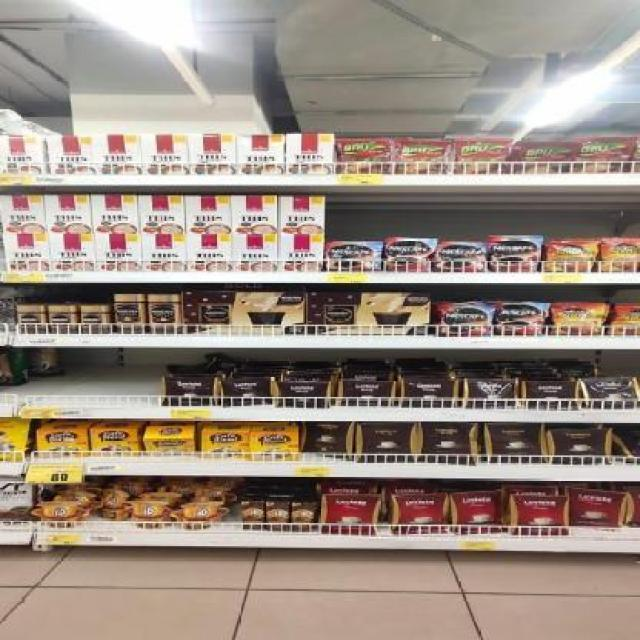Coffee: (434, 242, 488, 273), (386, 238, 435, 272), (490, 238, 538, 272), (325, 242, 381, 271), (439, 306, 493, 336), (547, 240, 596, 272), (496, 303, 545, 334), (552, 303, 601, 334), (600, 239, 640, 272), (113, 295, 146, 332), (148, 296, 181, 333), (18, 306, 44, 332), (50, 306, 76, 332), (85, 306, 110, 332)
